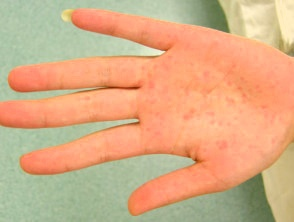SJS-TEN: (130, 20, 289, 185)
